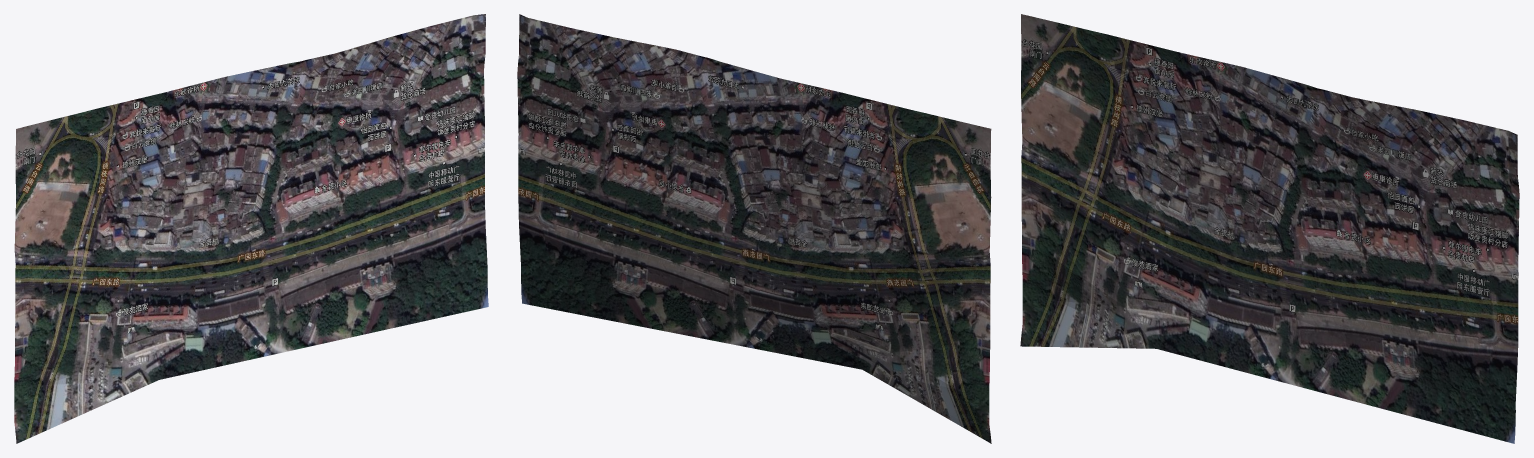
3 views of the same model, side by side, from view 1: azimuth 30°, elevation 25°; view 2: azimuth 150°, elevation 25°; view 3: azimuth 330°, elevation 25° (orthographic). The views are drawn at different scales.
Parts seen in each view (by area): view 1: 0_1_0_3_3_3; view 2: 0_1_0_3_3_3; view 3: 0_1_0_3_3_3.
Boxes of the visible parts, box(x1,y1,x2,y2) form: 0_1_0_3_3_3: box(14, 14, 488, 443); 0_1_0_3_3_3: box(517, 14, 991, 443); 0_1_0_3_3_3: box(1020, 14, 1519, 443).
Bounding box in the file's own units: 486 × 311 × 19.
Materials: 1 (1 with a texture image).
